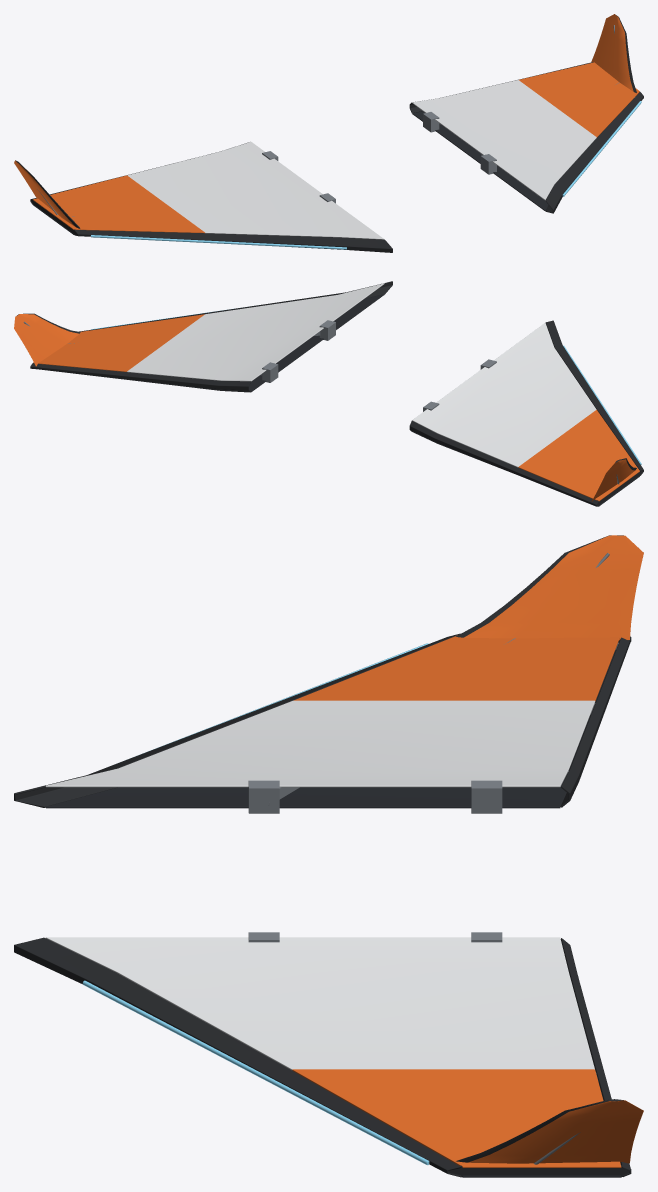
File: nomad_wing_glide.fbx
The picture shows the model from 3 angles, top to bottom: view 1: azimuth 30°, elevation 25°; view 2: azimuth 150°, elevation 25°; view 3: azimuth 270°, elevation 25°; orthographic projection. The views are drawn at different scales.
Parts seen in each view (by area): view 1: Wing_Top_L, Wing_Top_R, Wing_LE_L, Wing_Glide_Extra_R, Wing_LE_R, Wing_Glide_Extra_L, Wing_Bottom_R, Wing_Structure_R; view 2: Wing_Top_L, Wing_Top_R, Wing_Glide_Extra_R, Wing_TE_R, Wing_TE_L, Wing_LE_L, Wing_Bottom_R, Wing_Glide_Extra_L, Wing_LE_R, Wing_Structure_R; view 3: Wing_Top_R, Wing_Top_L, Wing_Glide_Extra_L, Wing_Bottom_L, Wing_Glide_Extra_R, Wing_LE_R, Wing_LE_L, Wing_Structure_L, Wing_TE_L, Wing_TE_R, Wing_Tip_R.
Boxes of the visible parts, x1,y1,x2,y2 form: Wing_Top_L: [33, 142, 384, 239]; Wing_Top_R: [412, 62, 639, 200]; Wing_LE_L: [74, 230, 392, 252]; Wing_Glide_Extra_R: [562, 14, 641, 196]; Wing_LE_R: [545, 92, 643, 213]; Wing_Glide_Extra_L: [14, 160, 346, 249]; Wing_Bottom_R: [412, 95, 636, 211]; Wing_Structure_R: [423, 82, 634, 190]; Wing_Top_L: [412, 322, 639, 501]; Wing_Top_R: [33, 283, 384, 381]; Wing_Glide_Extra_R: [14, 308, 233, 366]; Wing_TE_R: [30, 363, 250, 392]; Wing_TE_L: [409, 421, 598, 506]; Wing_LE_L: [545, 320, 643, 475]; Wing_Bottom_R: [249, 294, 384, 392]; Wing_Glide_Extra_L: [563, 345, 641, 501]; Wing_LE_R: [79, 281, 392, 331]; Wing_Structure_R: [68, 320, 335, 382]; Wing_Top_R: [46, 937, 621, 1167]; Wing_Top_L: [45, 635, 619, 787]; Wing_Glide_Extra_L: [124, 535, 643, 760]; Wing_Bottom_L: [45, 650, 615, 808]; Wing_Glide_Extra_R: [82, 980, 643, 1165]; Wing_LE_R: [14, 937, 461, 1177]; Wing_LE_L: [14, 633, 460, 807]; Wing_Structure_L: [248, 638, 618, 813]; Wing_TE_L: [561, 636, 630, 807]; Wing_TE_R: [560, 938, 631, 1176]; Wing_Tip_R: [448, 1165, 631, 1177].
Bounding box in the file's own units: 433 × 34.54 × 204.
